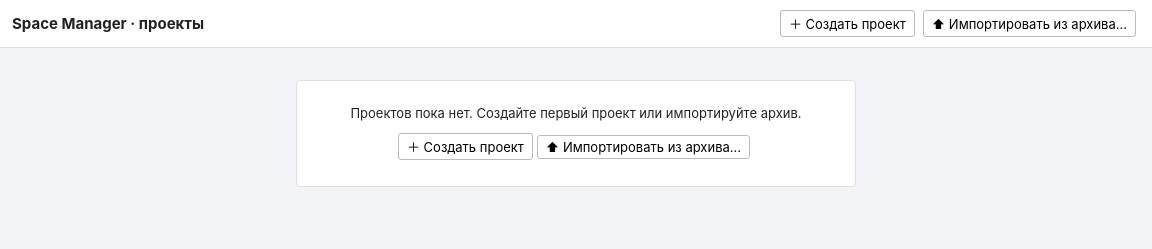
Scenario: создание проекта › пустой workspace → подсказка; создание → карточка появляется
Expected: the text "Проектов пока нет" is shown, left=350, top=105, right=802, bottom=121
Click the button "＋ Создать проект" in the row of "Space Manager · проекты": (847,24) left=780, top=10, right=915, bottom=37
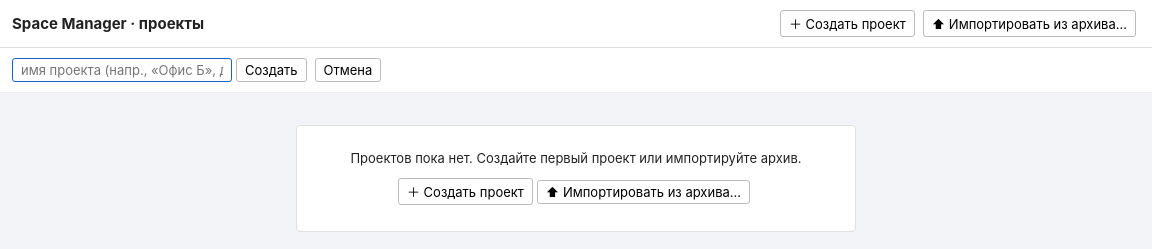
In the field with placeholder "имя проекта (напр., «Офис Б», до 64 символов)": (122,70) left=12, top=58, right=232, bottom=82, type "demo-p1"
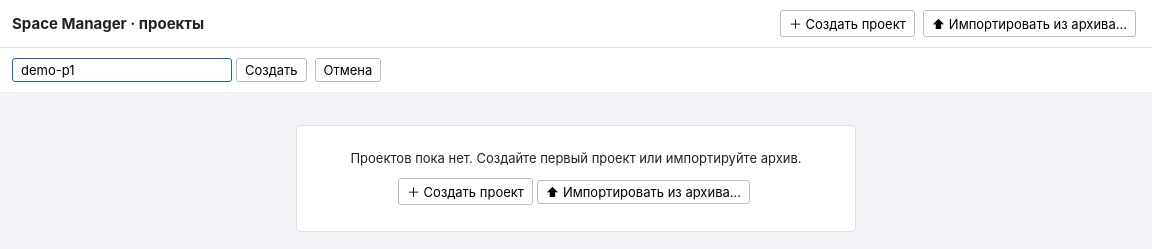
Click the button "Создать": (271,70) left=236, top=58, right=306, bottom=82
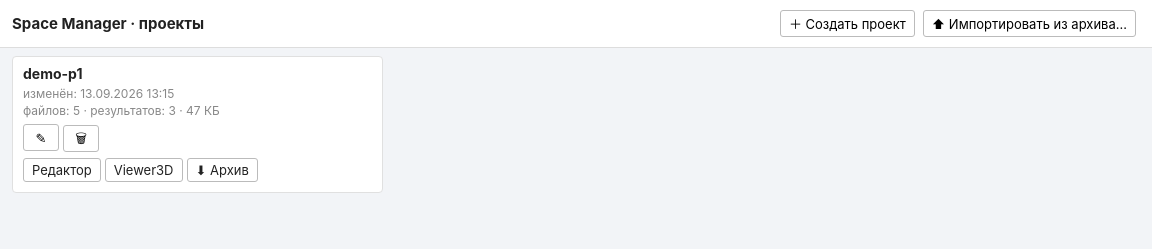
Expected: the heading "demo-p1" is shown, left=23, top=65, right=82, bottom=82
